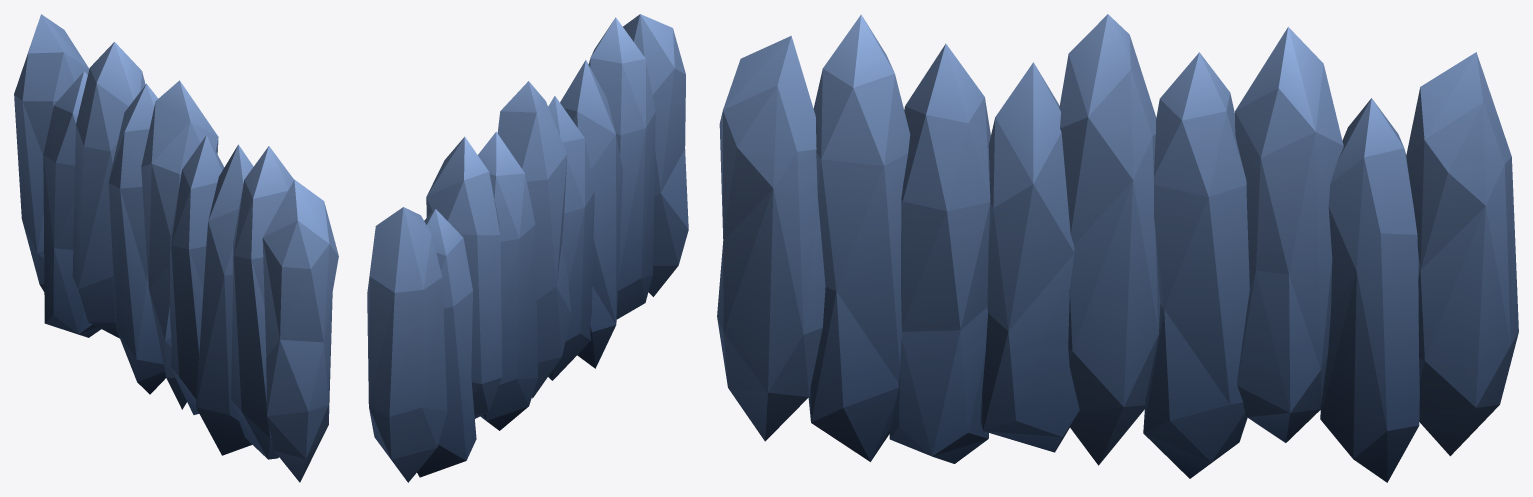
File: SM_IceSpikeWall.fbx
The picture shows the model from 3 angles, left to right: view 1: azimuth 30°, elevation 25°; view 2: azimuth 150°, elevation 25°; view 3: azimuth 270°, elevation 25°; orthographic projection. The views are drawn at different scales.
Visible parts, largest first — view 1: SM_IceSpikeWall; view 2: SM_IceSpikeWall; view 3: SM_IceSpikeWall.
Boxes of the visible parts, x1,y1,x2,y2 form: SM_IceSpikeWall: [14, 14, 338, 482]; SM_IceSpikeWall: [367, 14, 688, 482]; SM_IceSpikeWall: [717, 14, 1518, 482].
Size of the model in its own units: 93.6 by 402 by 627.
